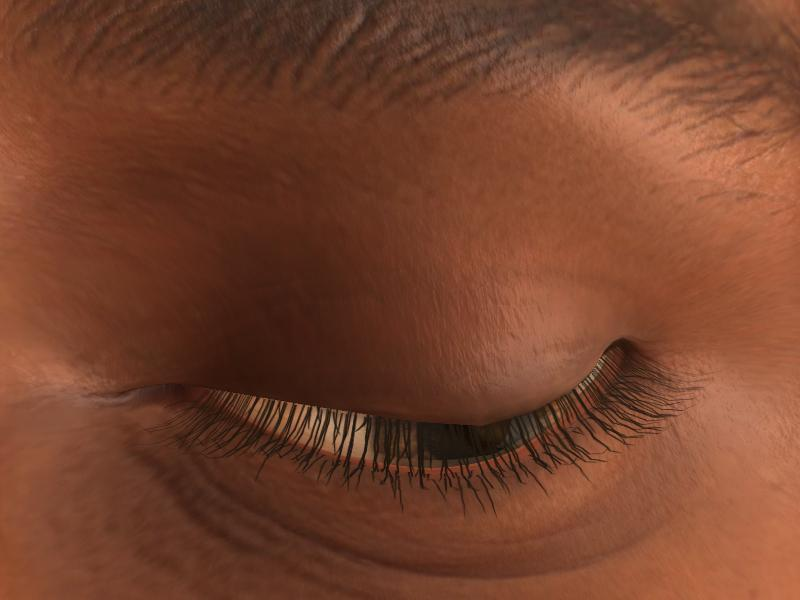eye: (370, 403, 553, 462)
